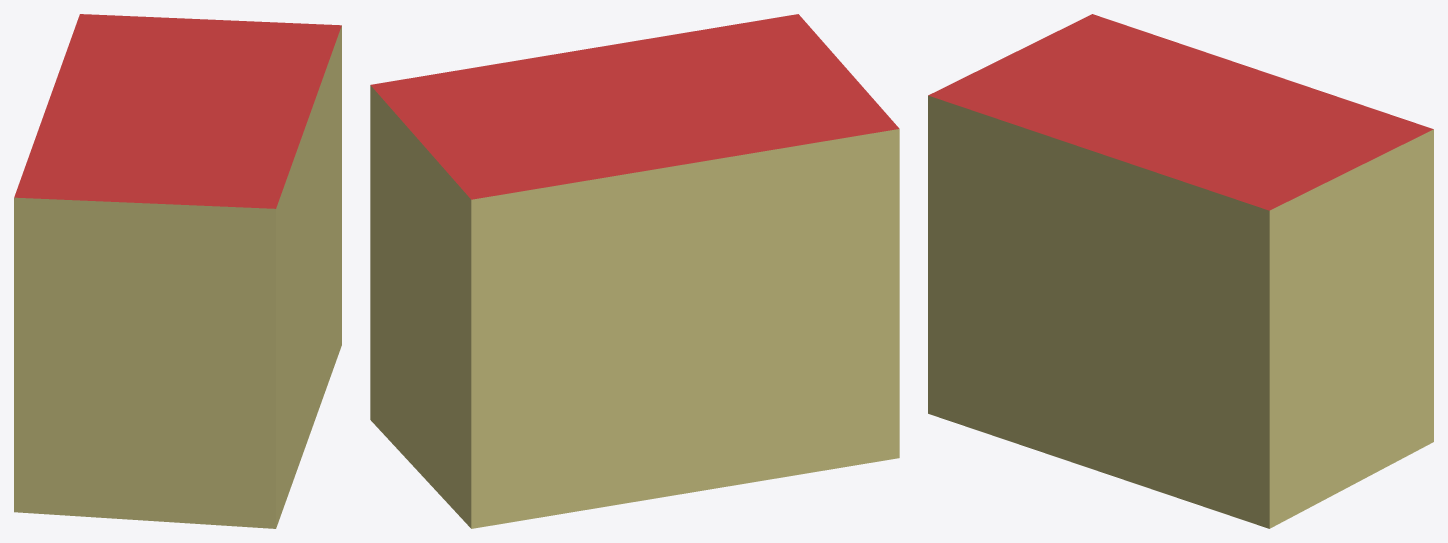
3 views of the same model, side by side, from view 1: azimuth 30°, elevation 25°; view 2: azimuth 150°, elevation 25°; view 3: azimuth 270°, elevation 25° (orthographic). The views are drawn at different scales.
Size of the model in its own units: 7.43 by 7.85 by 5.45.
